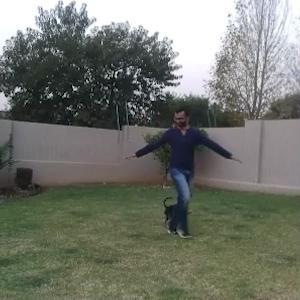land: (126, 110, 226, 228)
